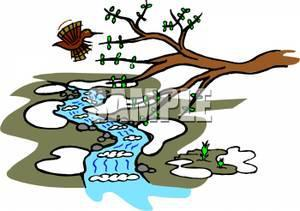bird: (48, 20, 103, 62)
